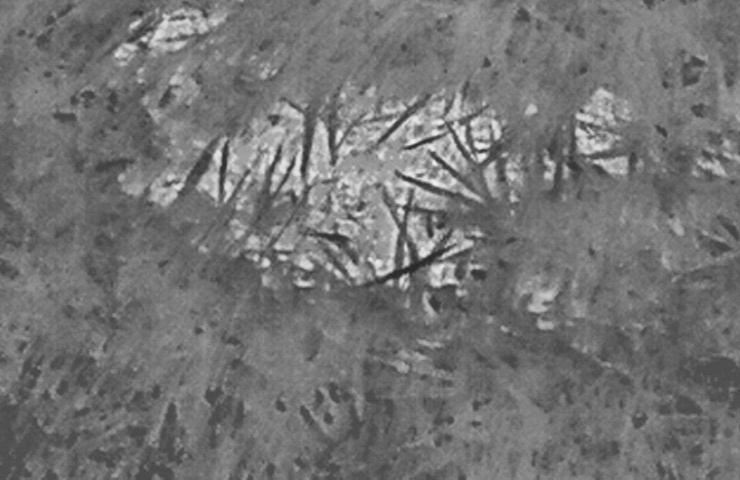landmines: (177, 70, 533, 312)
